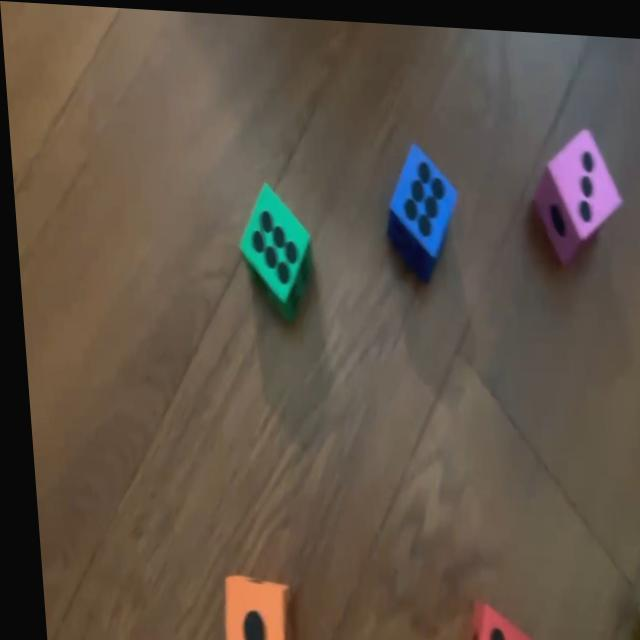blue_block: (379, 137, 458, 275)
red_block: (449, 596, 532, 640)
